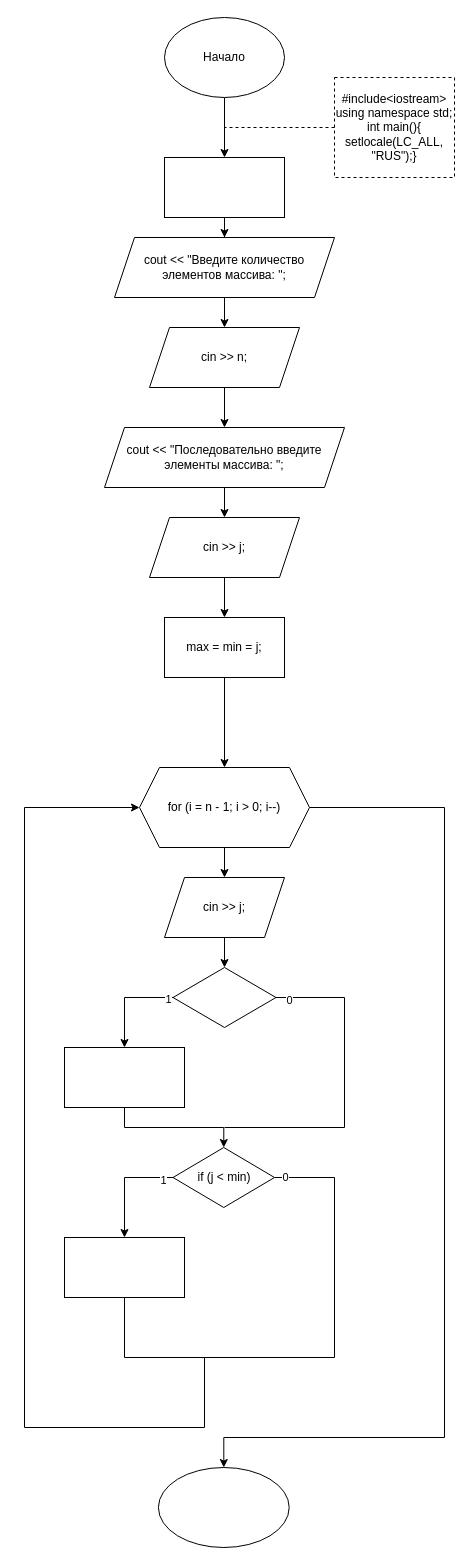
The diagram is 472 pixels wide and 1565 high, and some of its shapes have lost their labels. Each missing label, with the centre of its shape:
if (j > max): (x=224, y=997)
int n, i, max, j, min;: (x=224, y=187)
max = j;: (x=124, y=1077)
min = j;: (x=124, y=1267)
Конец: (x=223, y=1507)
